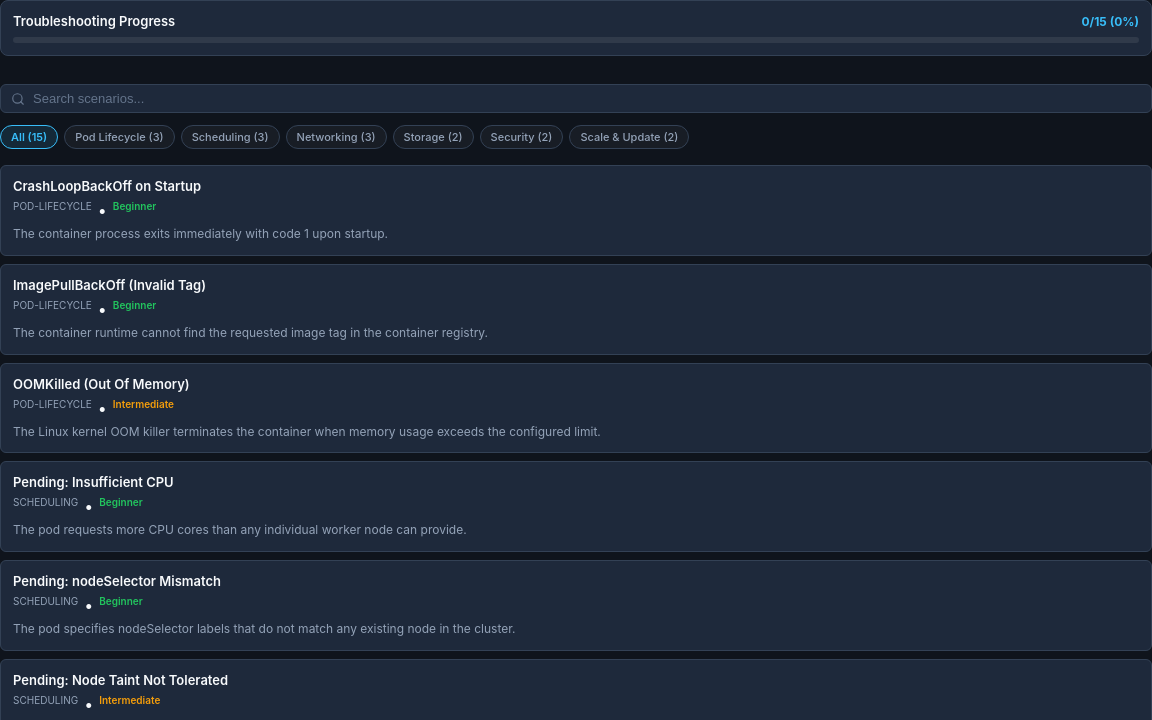
Scenario: ScenarioList › renders all scenarios by default and filters by category
Expected: the text "CrashLoopBackOff on Startup" is shown, [13, 178, 201, 194]
Expected: the text "Pending: Insufficient CPU" is shown, [13, 474, 174, 490]
Note: Click on "Scheduling" category
Click the button "Scheduling (3)" at (230, 137), box [181, 125, 280, 149]
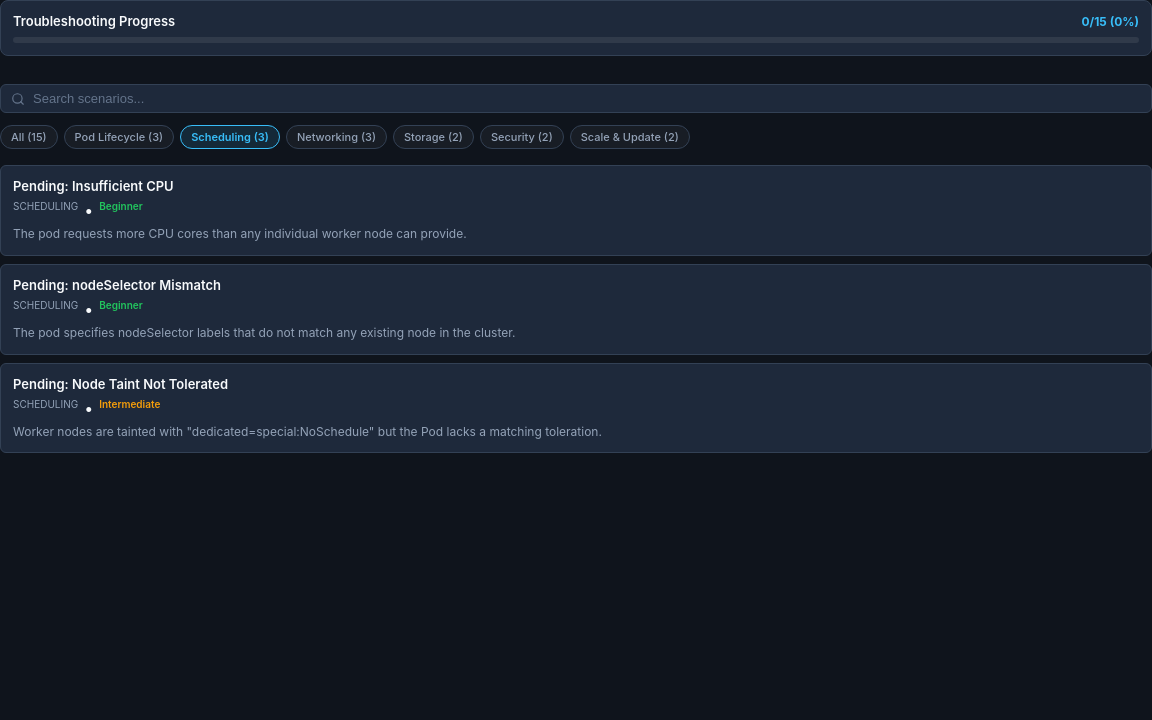
Expected: the text "Pending: Insufficient CPU" is shown, [13, 178, 174, 194]
Result: the button "CrashLoopBackOff on Startup" is gone
